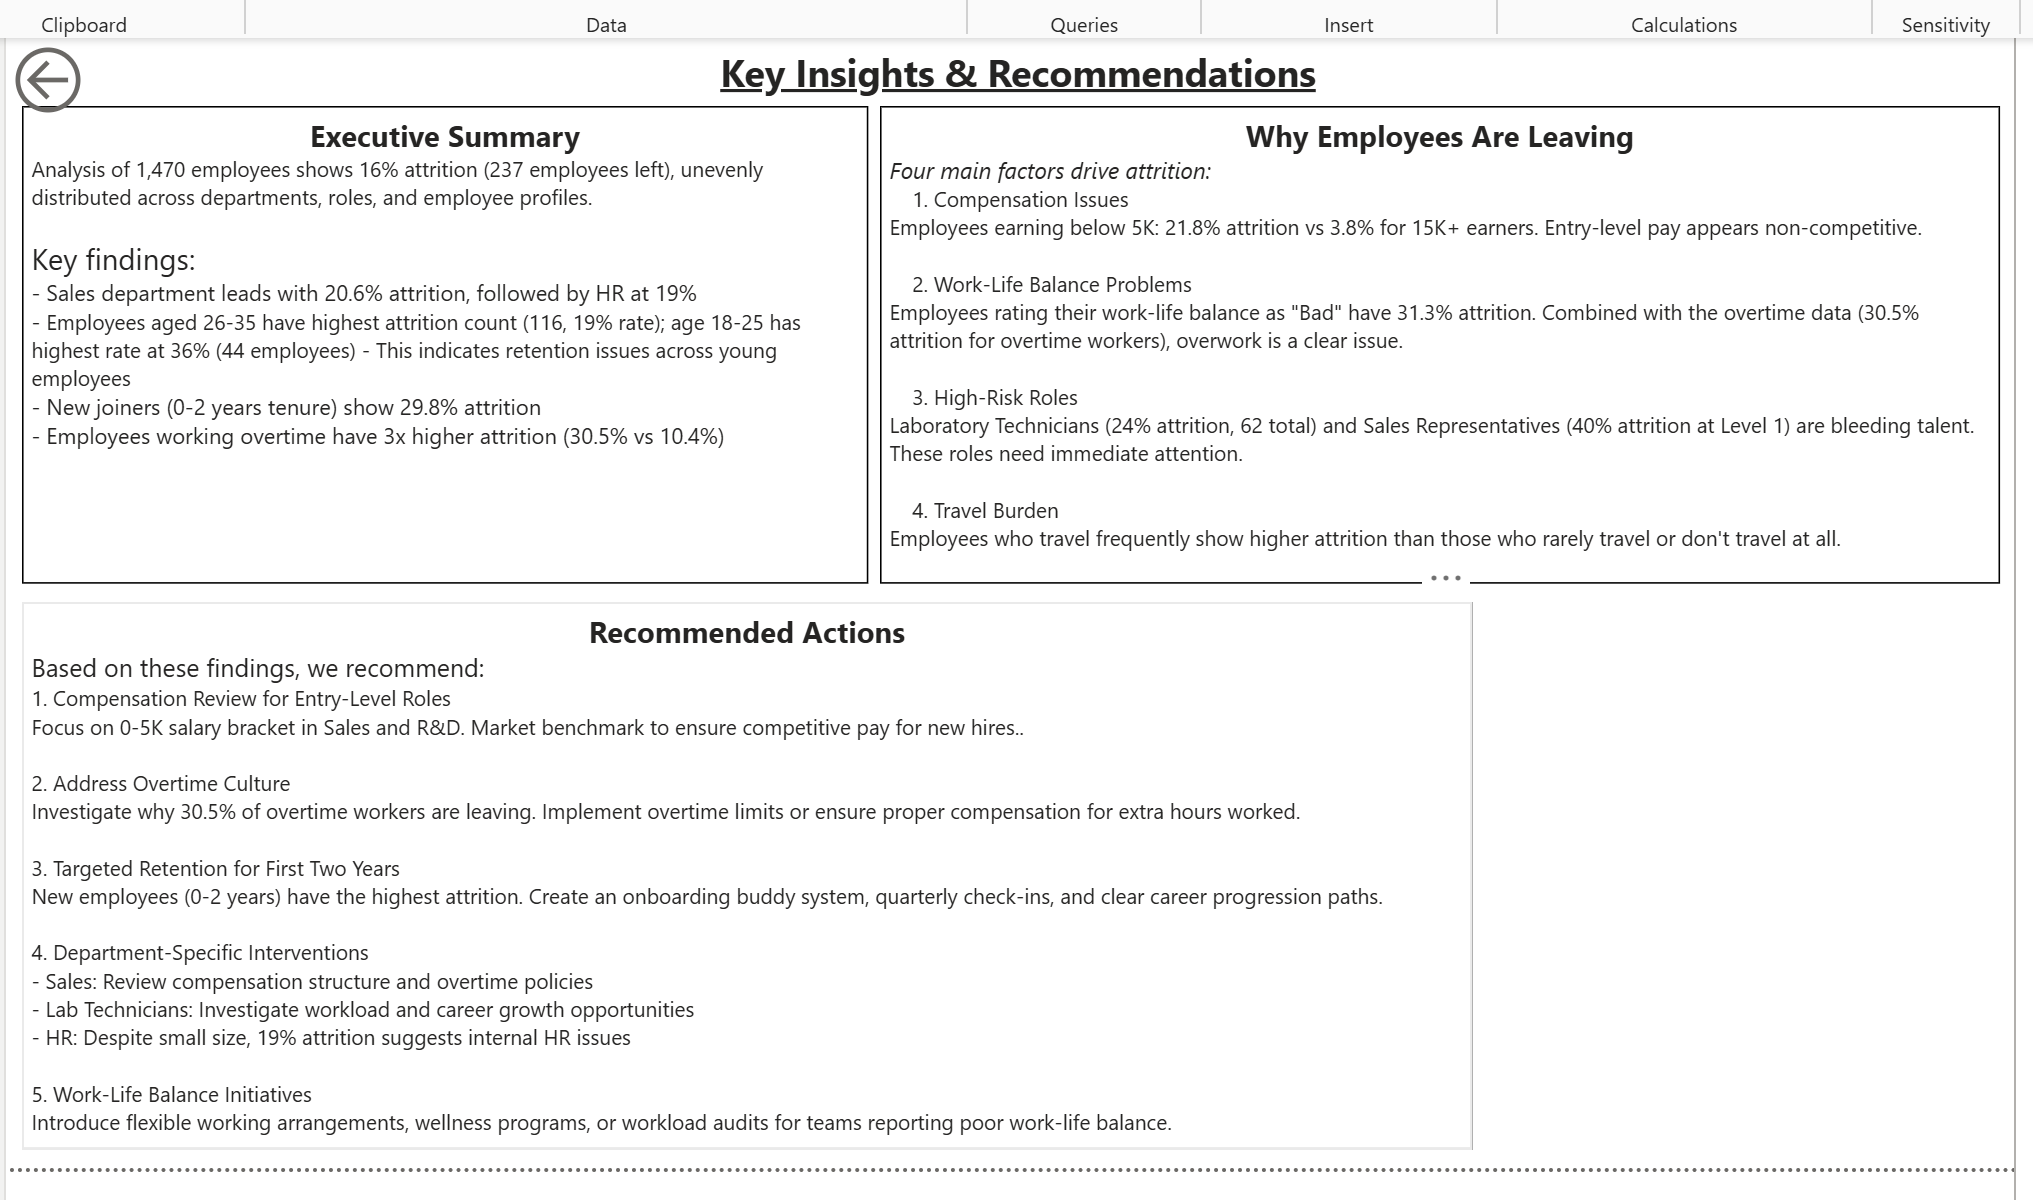

The dashboard page shown, as its layout file describes it:
{"tool":"powerbi","page":{"name":"Insights & Recommendations","canvas":[1280,720],"ordinal":1},"visuals":[{"type":"textbox","box":[10.2,0,1269.8,53.5],"z":0},{"type":"textbox","box":[10.2,43.3,539.3,304.7],"z":1000},{"type":"textbox","box":[557.1,43.3,713.9,304.7],"z":2000},{"type":"actionButton","box":[0,0,61.2,53.5],"z":3000},{"type":"textbox","box":[10.2,359.5,924.3,349],"z":4000}]}

Visuals, with their boxes in screenshot pixels (x1, y1, x2, y2):
textbox: [21, 26, 2010, 110]
textbox: [21, 94, 866, 572]
textbox: [878, 94, 1996, 572]
actionButton: [5, 26, 101, 110]
textbox: [21, 590, 1469, 1136]
